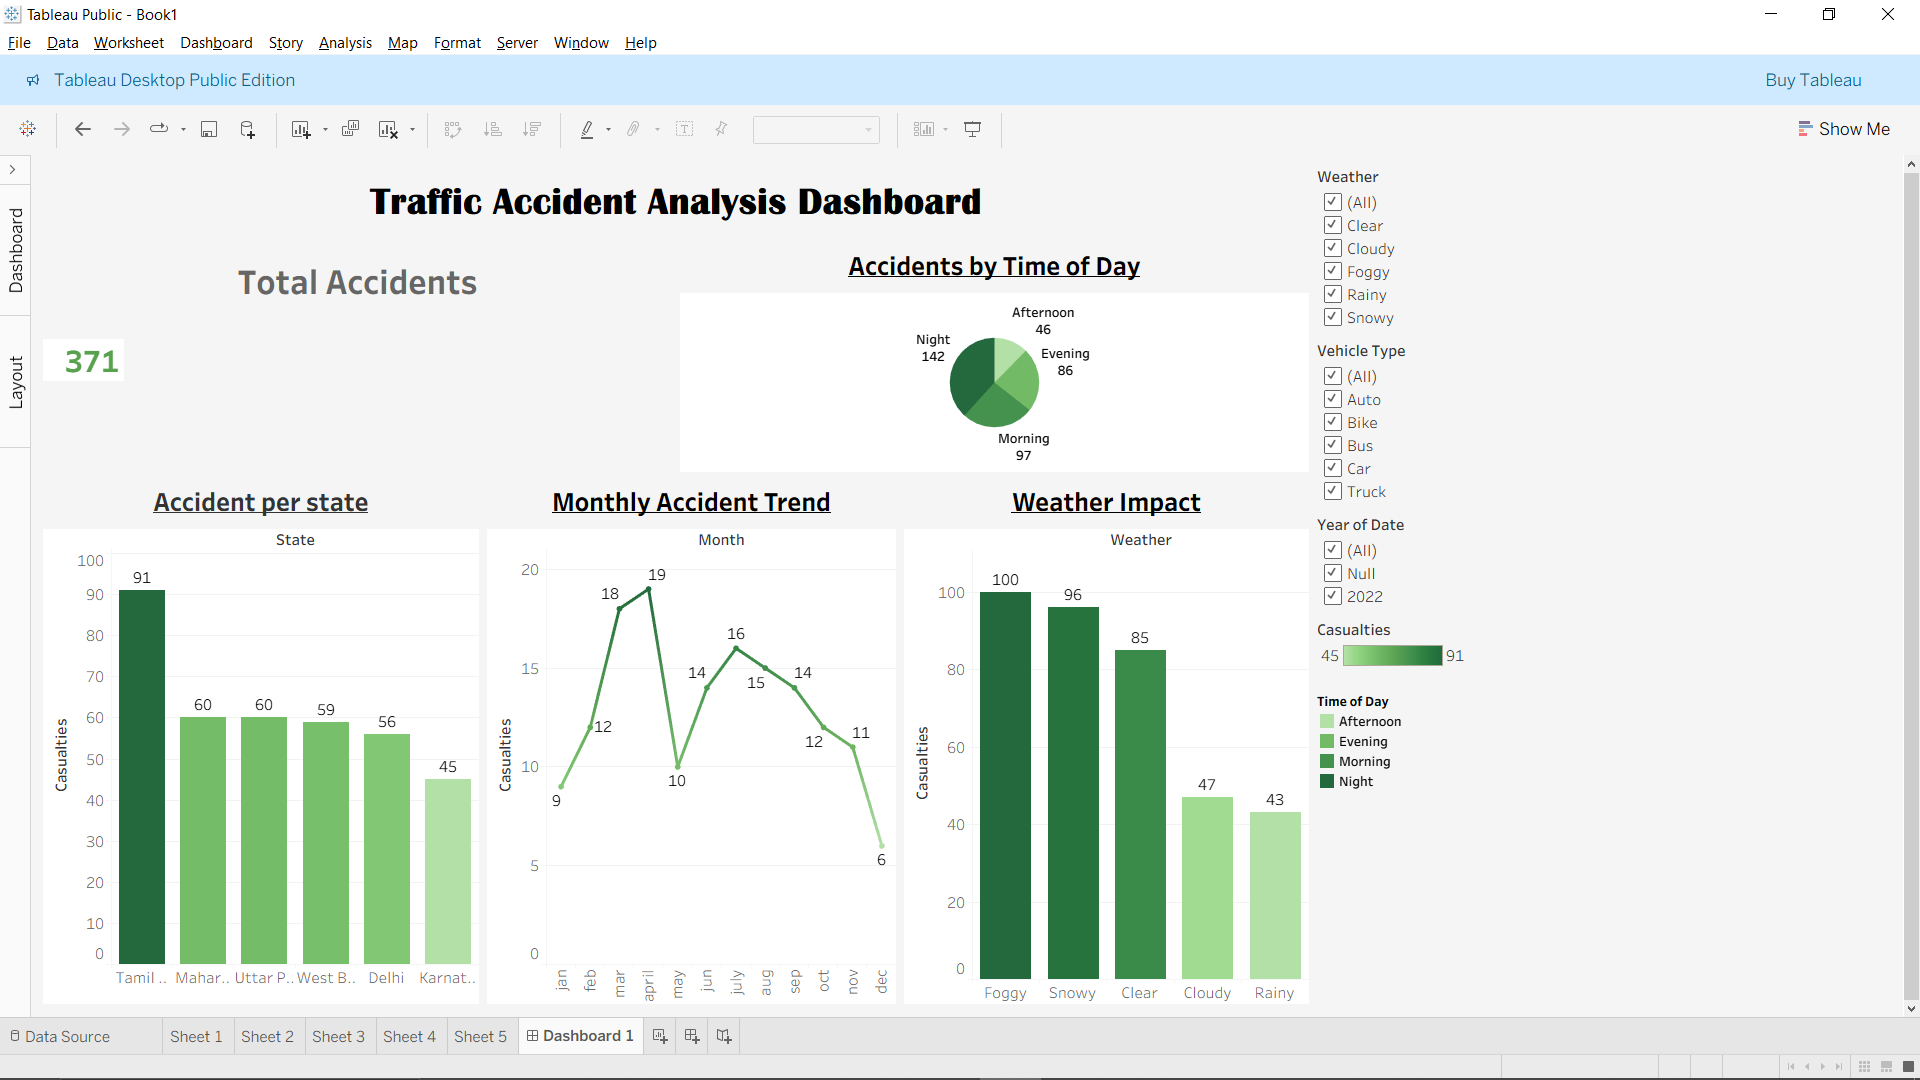

The dashboard page shown, as its layout file describes it:
{"tool":"tableau","page":{"name":"Dashboard 1","canvas":[1000,1000],"units":"permille","ordinal":0},"visuals":[{"type":"title","box":[5.5,9.8,878.6,89.9]},{"type":"filter","title":"Sheet 1","param":"[federated.0ga245j0ki2zbk1gedox21pk4yq2].[none:Weather:nk]","box":[884.1,9.8,110.3,214.3]},{"type":"text","box":[5.5,99.7,439.3,93.6]},{"type":"worksheet","title":"Sheet 3","mark":"Pie","box":[444.8,99.7,439.3,273.4]},{"type":"worksheet","title":"Sheet 5","mark":"Automatic","box":[5.5,193.3,439.3,179.8]},{"type":"filter","title":"Sheet 1","param":"[federated.0ga245j0ki2zbk1gedox21pk4yq2].[none:Vehicle_Type:nk]","box":[884.1,224.1,110.3,214.3]},{"type":"worksheet","title":"Sheet 1","mark":"Automatic","rows":["Casualties"],"cols":["State"],"box":[5.5,373.1,306.2,617]},{"type":"worksheet","title":"Sheet 2","mark":"Line","rows":["Casualties"],"cols":["Month"],"box":[311.7,373.1,287.6,617]},{"type":"worksheet","title":"Sheet 4","mark":"Automatic","rows":["Casualties"],"cols":["Weather"],"box":[599.3,373.1,284.8,617]},{"type":"filter","title":"Sheet 1","param":"[federated.0ga245j0ki2zbk1gedox21pk4yq2].[yr:Date:ok]","box":[884.1,438.4,110.3,129.3]},{"type":"legend","title":"Sheet 1","param":"[federated.0ga245j0ki2zbk1gedox21pk4yq2].[sum:Casualties:qk]","box":[884.1,567.7,110.3,89.9]},{"type":"legend","title":"Sheet 3","param":"[federated.0ga245j0ki2zbk1gedox21pk4yq2].[none:Time_of_Day:nk]","box":[884.1,657.6,110.3,131.8]}]}

Visuals, with their boxes on the dashboard's canvas, which has no fixed pixel size, in thousandths of its width and height (x1, y1, x2, y2). These are canvas units, not pixel positions in the 1920x1080 screenshot, which may show the page scaled, cropped or inside an application window:
title: 6/10/884/100
"Sheet 1" filter: 884/10/994/224
text: 6/100/445/193
"Sheet 3" worksheet (Pie marks): 445/100/884/373
"Sheet 5" worksheet: 6/193/445/373
"Sheet 1" filter: 884/224/994/438
"Sheet 1" worksheet: 6/373/312/990
"Sheet 2" worksheet (Line marks): 312/373/599/990
"Sheet 4" worksheet: 599/373/884/990
"Sheet 1" filter: 884/438/994/568
"Sheet 1" legend: 884/568/994/658
"Sheet 3" legend: 884/658/994/789
